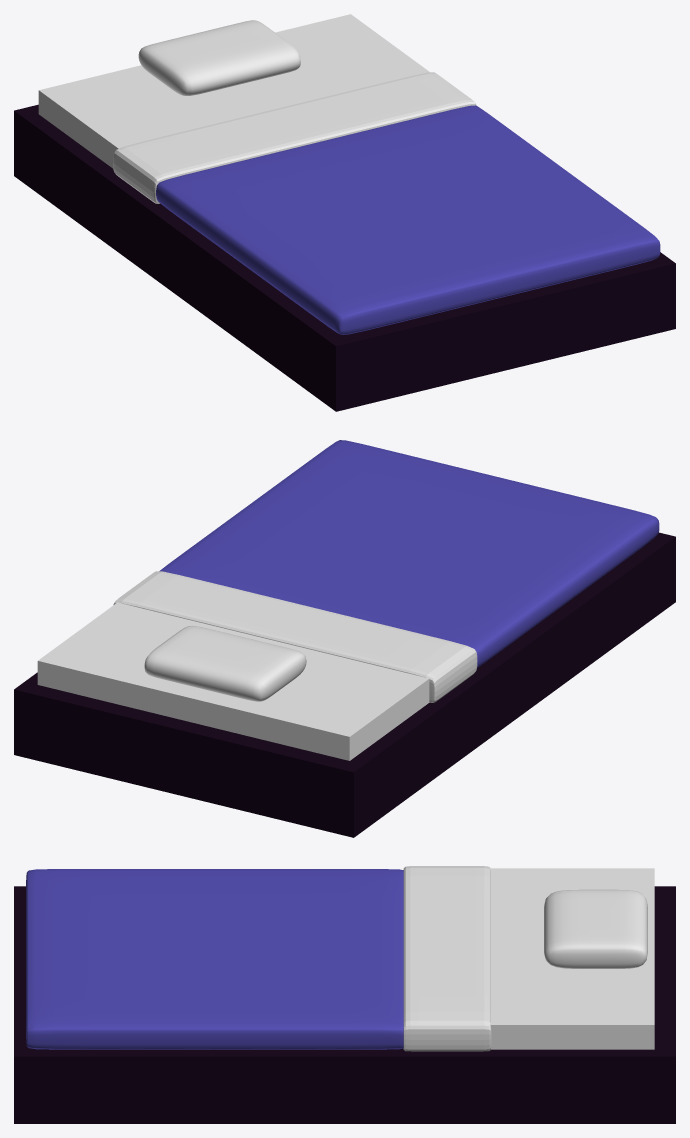
File: bed.fbx
3 renders of one model, top to bottom at view 1: azimuth 30°, elevation 25°; view 2: azimuth 150°, elevation 25°; view 3: azimuth 270°, elevation 25°, orthographic. The views are drawn at different scales.
Parts seen in each view (by area): view 1: Cube.008, Cube.004, Cube.005, Cube.006, Cube.007; view 2: Cube.008, Cube.004, Cube.005, Cube.006, Cube.007; view 3: Cube.008, Cube.004, Cube.005, Cube.006, Cube.007.
Boxes of the visible parts, box(x1,y1,x2,y2) form: Cube.008: box(156, 105, 660, 334); Cube.004: box(14, 104, 675, 411); Cube.005: box(38, 14, 429, 168); Cube.006: box(113, 72, 476, 203); Cube.007: box(138, 20, 300, 95); Cube.008: box(159, 440, 659, 667); Cube.004: box(14, 532, 675, 837); Cube.005: box(37, 602, 429, 760); Cube.006: box(113, 571, 477, 702); Cube.007: box(144, 625, 306, 701); Cube.008: box(26, 869, 403, 1049); Cube.004: box(14, 886, 675, 1123); Cube.005: box(490, 868, 654, 1049); Cube.006: box(403, 866, 491, 1051); Cube.007: box(544, 889, 647, 968).
Size of the model in its own units: 1304 by 431 by 2141.
